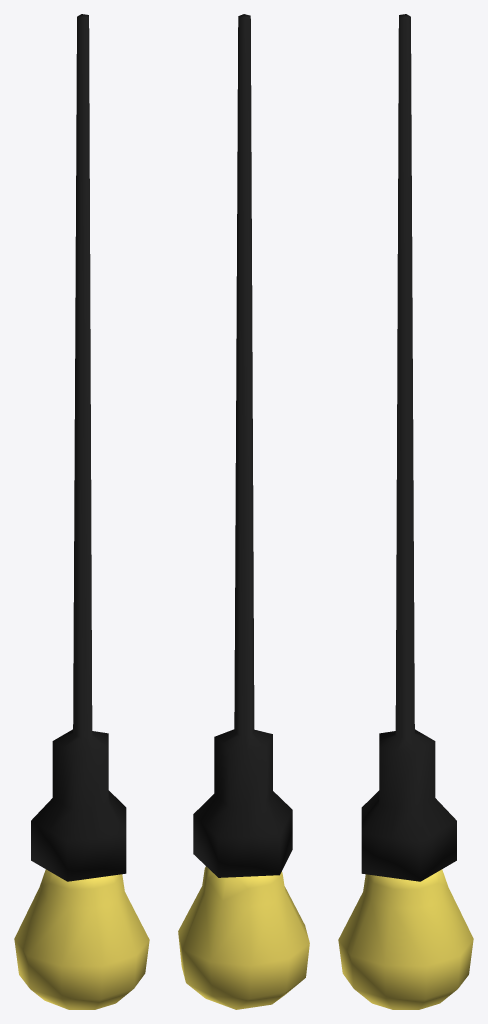
File: pendant-bulb.glb
3 views of the same model, side by side, from view 1: azimuth 90°, elevation 25°; view 2: azimuth 150°, elevation 25°; view 3: azimuth 270°, elevation 25° (orthographic).
Visible parts, largest first — view 1: light_pole, light_bulb; view 2: light_pole, light_bulb; view 3: light_pole, light_bulb.
Boxes of the visible parts, x1,y1,x2,y2 form: light_pole: [31, 14, 126, 881]; light_bulb: [14, 869, 149, 1009]; light_pole: [193, 14, 292, 877]; light_bulb: [178, 866, 309, 1009]; light_pole: [361, 14, 456, 881]; light_bulb: [338, 869, 473, 1009].
Size of the model in its own units: 0.0944 by 0.8 by 0.0993.
2 materials, 1 textured.
